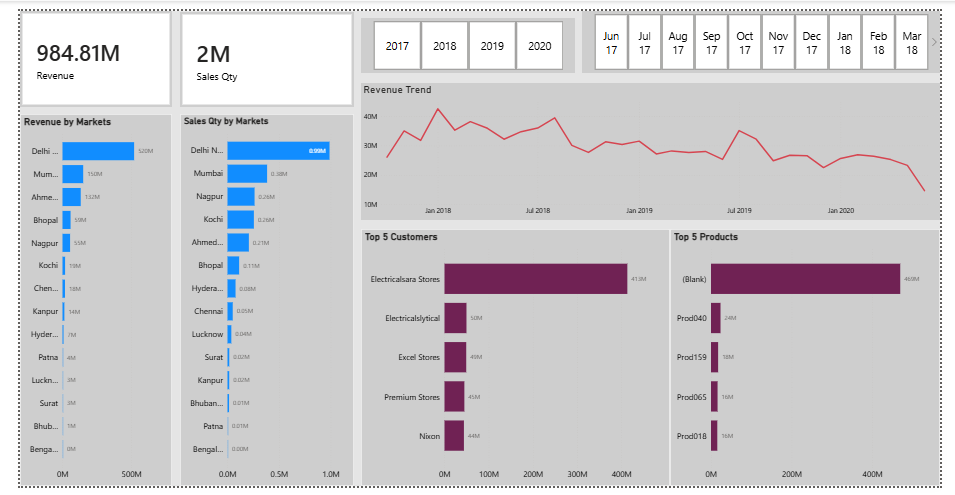

Layout of this report page (visuals, bound fields, positions):
{"tool":"powerbi","page":{"name":"Page 1","canvas":[1840,950],"ordinal":0},"visuals":[{"type":"cardVisual","fields":{"Data":["BaseMeasures.Revenue"]},"box":[0,0,304,192],"z":0},{"type":"cardVisual","fields":{"Data":["BaseMeasures.Sales Qty"]},"box":[320,2,348,190],"z":1000},{"type":"barChart","title":"Revenue by Markets","fields":{"Category":["sales markets.markets_name"],"Y":["BaseMeasures.Revenue"]},"box":[0,206,304,744],"z":2000},{"type":"barChart","title":"Sales Qty by Markets","fields":{"Y":["BaseMeasures.Sales Qty"],"Category":["sales markets.markets_name"]},"box":[320,206,348,744],"z":3000},{"type":"slicer","fields":{"Values":["sales date.year"]},"box":[682,14,428,110],"z":4000},{"type":"slicer","fields":{"Values":["sales date.cy_date"]},"box":[1124,0,716,124],"z":5000},{"type":"barChart","title":"Top 5 Customers","fields":{"Y":["BaseMeasures.Revenue"],"Category":["sales customers.custmer_name"]},"box":[682,436,618,514],"z":6000},{"type":"barChart","title":"Top 5 Products","fields":{"Y":["BaseMeasures.Revenue"],"Category":["sales products.product_code"]},"box":[1300,436,540,514],"z":7000},{"type":"lineChart","title":"Revenue Trend","fields":{"Category":["sales date.cy_date"],"Y":["BaseMeasures.Revenue"]},"box":[682,144,1158,274],"z":8000}]}

Visuals, with their boxes in screenshot pixels (x1, y1, x2, y2), scaled from the page's 1840x950 canvas onto the 955x495 screenshot:
cardVisual - BaseMeasures.Revenue: 0, 0, 158, 100
cardVisual - BaseMeasures.Sales Qty: 166, 1, 347, 100
"Revenue by Markets" barChart: 0, 107, 158, 494
"Sales Qty by Markets" barChart: 166, 107, 347, 494
slicer - sales date.year: 354, 7, 576, 65
slicer - sales date.cy_date: 583, 0, 954, 65
"Top 5 Customers" barChart: 354, 227, 675, 494
"Top 5 Products" barChart: 675, 227, 954, 494
"Revenue Trend" lineChart: 354, 75, 954, 218
